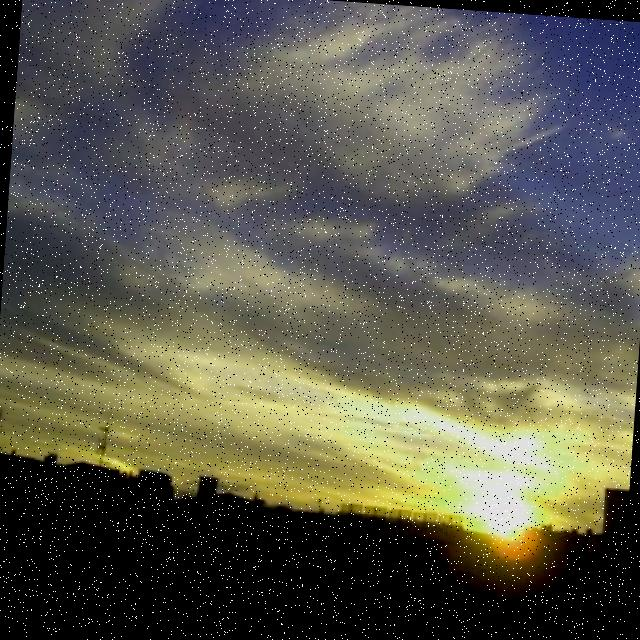Ci: (1, 1, 640, 417)
